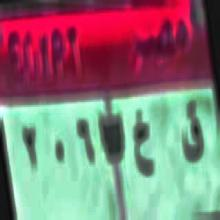0: (52, 129, 71, 176)
2: (20, 122, 42, 172)
6: (76, 115, 98, 178)
khaa: (131, 103, 155, 183)
qaaf: (180, 97, 205, 172)
